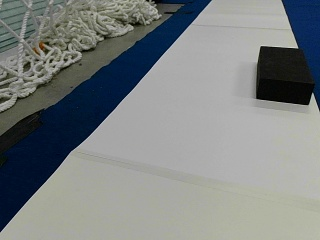block: (256, 45, 315, 105)
